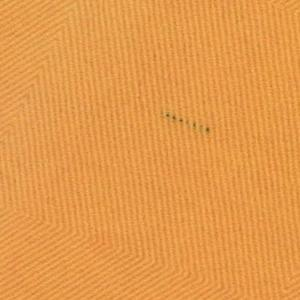stain: (163, 108, 215, 136)
